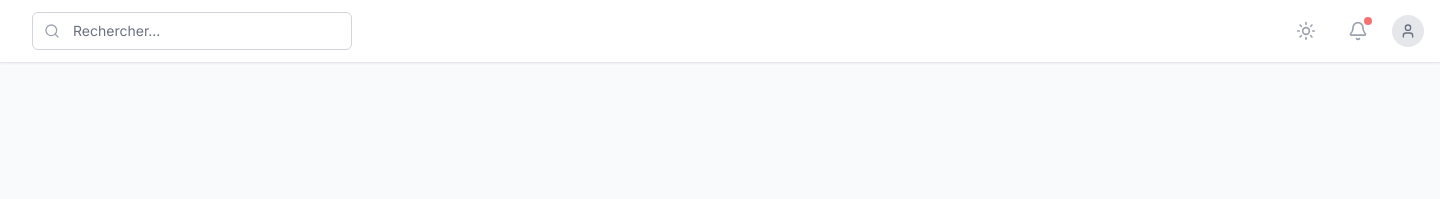
Test: Header › Theme Switcher › shows theme dropdown when theme button is clicked
The image size is (1440, 199).
Click the 1st button at (1306, 31), box [1288,13,1324,49]
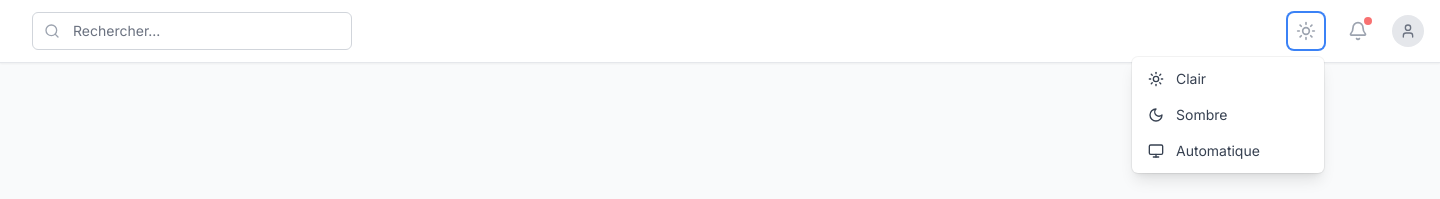
Now the button "Clair" is shown, box [1132,61,1324,97]
Now the button "Sombre" is shown, box [1132,97,1324,133]
Now the button "Automatique" is shown, box [1132,133,1324,169]
